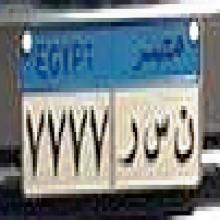7: (66, 102, 89, 177), (25, 103, 46, 181), (89, 103, 110, 178), (48, 104, 66, 182)
noon: (173, 98, 196, 172)
raa: (116, 111, 140, 180)
seen: (141, 107, 170, 171)
